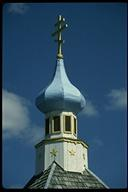church: (19, 9, 115, 190)
cloud: (2, 83, 31, 139)
sky: (75, 6, 123, 80)
